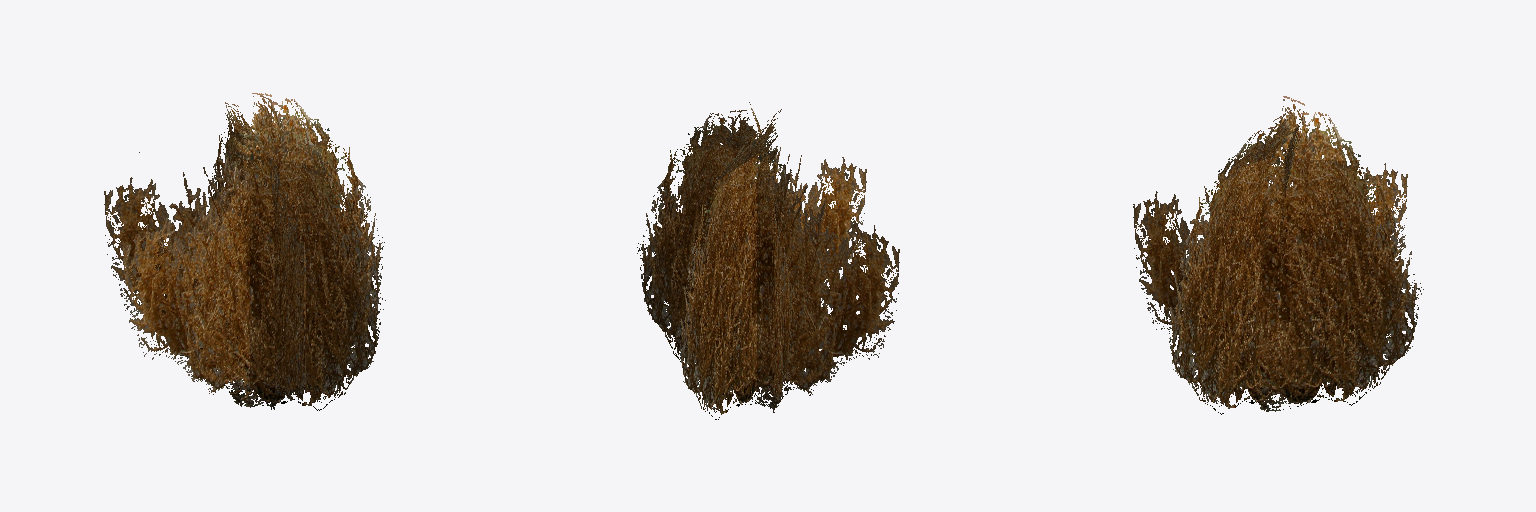
3 views of the same model, side by side, from view 1: azimuth 30°, elevation 25°; view 2: azimuth 150°, elevation 25°; view 3: azimuth 270°, elevation 25° (orthographic).
Visible parts, largest first — view 1: tumbleweed; view 2: tumbleweed; view 3: tumbleweed.
Part boxes in pixels (x1,y1,x2,y2): tumbleweed: (104, 93, 385, 410); tumbleweed: (637, 102, 899, 419); tumbleweed: (1133, 96, 1423, 414).
Size of the model in its own units: 1.64 by 1.79 by 1.57.
Materials: 1 (1 with a texture image).